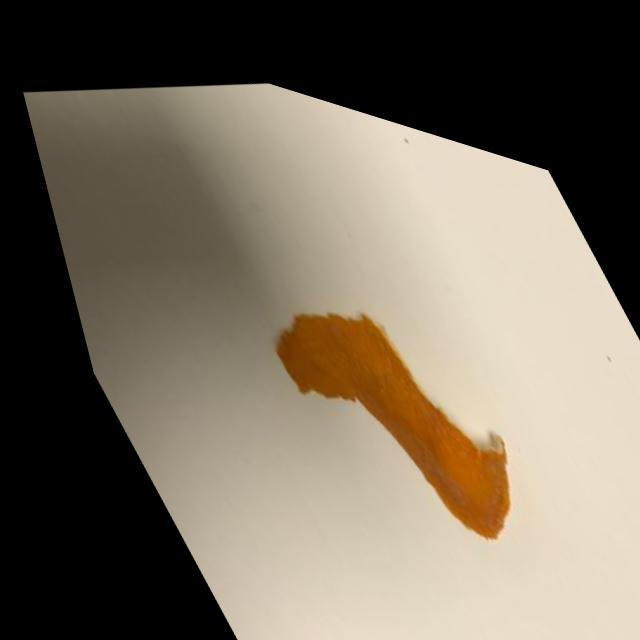trash: (88, 86, 640, 640)
